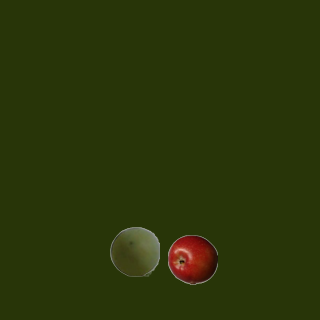Apple Braeburn: (167, 234, 217, 284)
Grape White 4: (109, 226, 159, 276)
